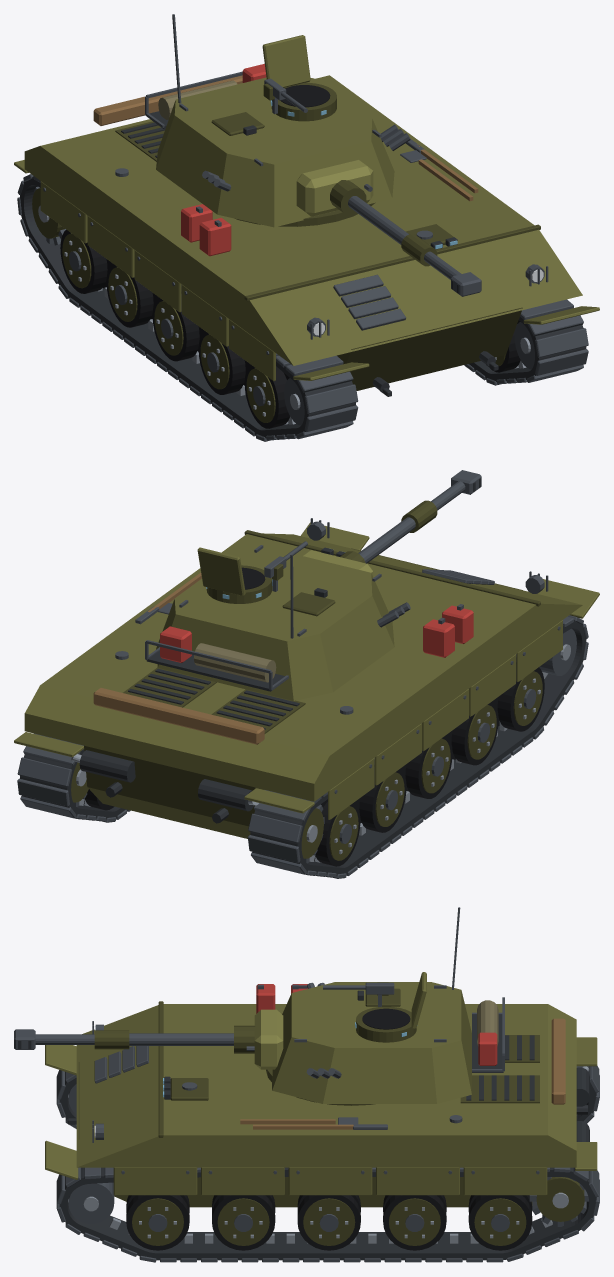
The model's file is tank.glb.
3 renders of one model, top to bottom at view 1: azimuth 30°, elevation 25°; view 2: azimuth 150°, elevation 25°; view 3: azimuth 270°, elevation 25°, orthographic. The views are drawn at different scales.
Parts seen in each view (by area): view 1: pieces_kaki.002, tourelle_kaki.002, pieces_acier_sombre.006, pieces_kaki_sombre.002, pieces_fonte.006, tourelle_acier_sombre.002, tourelle_kaki_sombre.002, tourelle_kaki_clair.002, pieces_bois.006, pieces_rouge.006, roue_d3_noir.002, roue_d5_noir.002 (+11 smaller); view 2: pieces_kaki.002, tourelle_kaki.002, pieces_fonte.006, pieces_kaki_sombre.002, pieces_acier_sombre.006, tourelle_acier_sombre.002, pieces_bois.006, tourelle_kaki_sombre.002, pieces_rouge.006, tourelle_bache.002, tourelle_fonte.002, roue_d1_noir.002 (+12 smaller); view 3: pieces_kaki.002, tourelle_kaki.002, pieces_fonte.006, pieces_acier_sombre.006, pieces_kaki_sombre.002, tourelle_acier_sombre.002, tourelle_kaki_sombre.002, pieces_bois.006, roue_g5_kaki_sombre.002, roue_g2_kaki_sombre.002, roue_g3_kaki_sombre.002, roue_g1_kaki_sombre.002 (+13 smaller).
Part boxes in pixels (box(x1,y1,x2,y2)): pieces_kaki.002: box(14, 75, 599, 381); tourelle_kaki.002: box(156, 35, 394, 227); pieces_acier_sombre.006: box(17, 139, 588, 441); pieces_kaki_sombre.002: box(32, 121, 540, 390); pieces_fonte.006: box(20, 122, 586, 438); tourelle_acier_sombre.002: box(145, 14, 481, 296); tourelle_kaki_sombre.002: box(211, 82, 437, 266); tourelle_kaki_clair.002: box(296, 160, 373, 216); pieces_bois.006: box(93, 75, 478, 201); pieces_rouge.006: box(181, 204, 231, 256); roue_d3_noir.002: box(152, 292, 204, 361); roue_d5_noir.002: box(60, 229, 111, 293); pieces_kaki.002: box(14, 522, 599, 819); tourelle_kaki.002: box(156, 547, 394, 700); pieces_fonte.006: box(20, 547, 586, 875); pieces_kaki_sombre.002: box(71, 530, 540, 858); pieces_acier_sombre.006: box(17, 518, 588, 878); tourelle_acier_sombre.002: box(145, 470, 481, 690); pieces_bois.006: box(93, 572, 264, 744); tourelle_kaki_sombre.002: box(206, 500, 437, 616); pieces_rouge.006: box(423, 605, 473, 657); tourelle_bache.002: box(193, 643, 276, 682); tourelle_fonte.002: box(146, 478, 480, 691); roue_d1_noir.002: box(493, 662, 544, 731); pieces_kaki.002: box(45, 1004, 597, 1195); tourelle_kaki.002: box(272, 972, 471, 1103); pieces_fonte.006: box(59, 1035, 596, 1260); pieces_acier_sombre.006: box(56, 984, 599, 1262); pieces_kaki_sombre.002: box(78, 1001, 584, 1221); tourelle_acier_sombre.002: box(14, 907, 504, 1078); tourelle_kaki_sombre.002: box(94, 982, 416, 1105); pieces_bois.006: box(240, 1018, 565, 1129); roue_g5_kaki_sombre.002: box(474, 1198, 526, 1245); roue_g2_kaki_sombre.002: box(217, 1198, 269, 1245); roue_g3_kaki_sombre.002: box(303, 1198, 355, 1245); roue_g1_kaki_sombre.002: box(132, 1198, 183, 1245).
Size of the model in its own units: 2.49 by 2.3 by 4.62.
